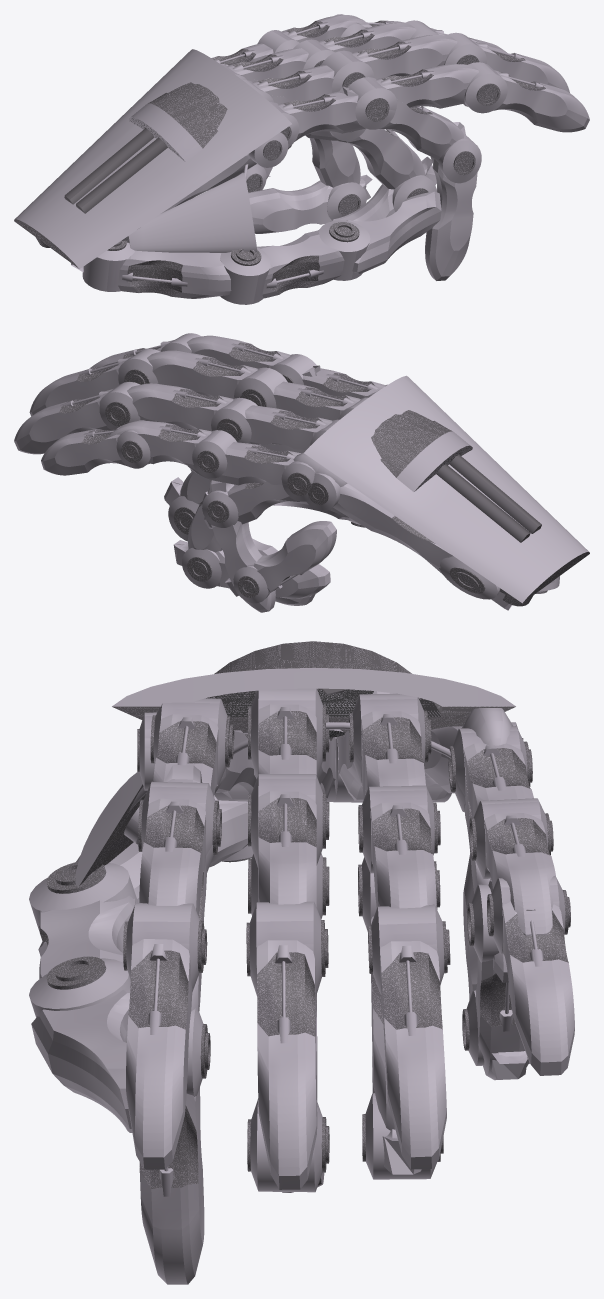
Rendered from hand.dae.
3 views of the same model, one above another, from view 1: azimuth 30°, elevation 25°; view 2: azimuth 150°, elevation 25°; view 3: azimuth 270°, elevation 25° (orthographic). The views are drawn at different scales.
Parts seen in each view (by area): view 1: Component_9 (×26), group_7 (×3), Component_13 (×14), group_8, Component_1, OD_100.0mm_ID_0.0mm (×2); view 2: Component_9 (×27), group_7 (×3), Component_13 (×14), OD_100.0mm_ID_0.0mm (×2), SimpleSphere01, Component_1; view 3: Component_9 (×38), Component_13 (×19), group_7 (×3), Component_1, group_8 (×2), SimpleSphere01.
Boxes of the visible parts, left/top/right/bottom form: Component_9 (×26): left=71, top=15, right=589, bottom=298; group_7 (×3): left=14, top=49, right=291, bottom=268; Component_13 (×14): left=82, top=30, right=507, bottom=304; group_8: left=128, top=173, right=257, bottom=252; Component_1: left=346, top=191, right=441, bottom=273; OD_100.0mm_ID_0.0mm (×2): left=64, top=128, right=167, bottom=213; Component_9 (×27): left=14, top=335, right=511, bottom=612; group_7 (×3): left=304, top=375, right=589, bottom=603; Component_13 (×14): left=99, top=333, right=500, bottom=603; OD_100.0mm_ID_0.0mm (×2): left=436, top=454, right=541, bottom=542; SimpleSphere01: left=293, top=452, right=347, bottom=486; Component_1: left=273, top=501, right=349, bottom=519; Component_9 (×38): left=39, top=704, right=574, bottom=1284; Component_13 (×19): left=29, top=688, right=565, bottom=1192; group_7 (×3): left=112, top=641, right=515, bottom=732; Component_1: left=31, top=988, right=132, bottom=1132; group_8 (×2): left=75, top=772, right=145, bottom=886; SimpleSphere01: left=461, top=708, right=512, bottom=745.
Bounding box in the file's own units: 135 × 61.36 × 55.27.
5 materials, 5 textured.
